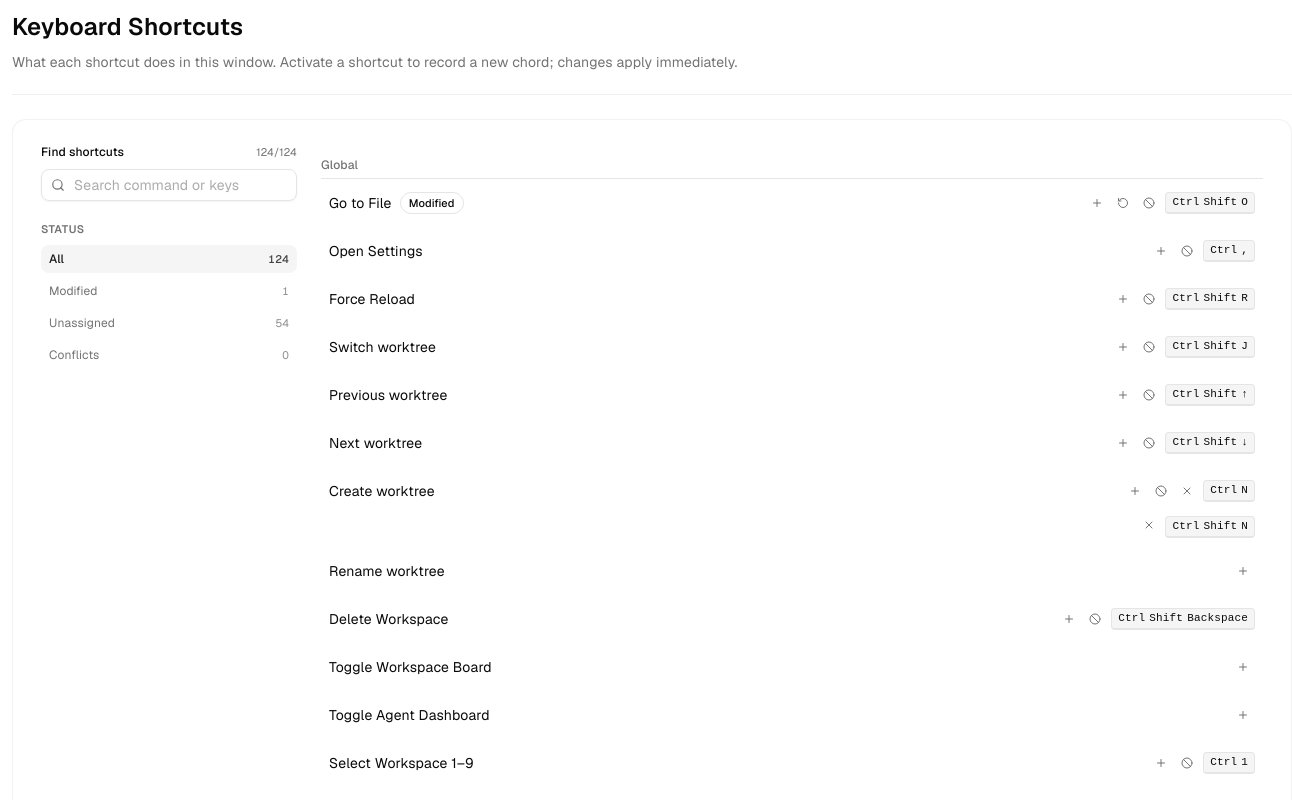
Test: per-row Disable control (#244) › Enable restores the remembered chords in one click
Click the button named "Disable Go to File". click: coordinates (1149, 203)
box: [1137, 191, 1161, 215]
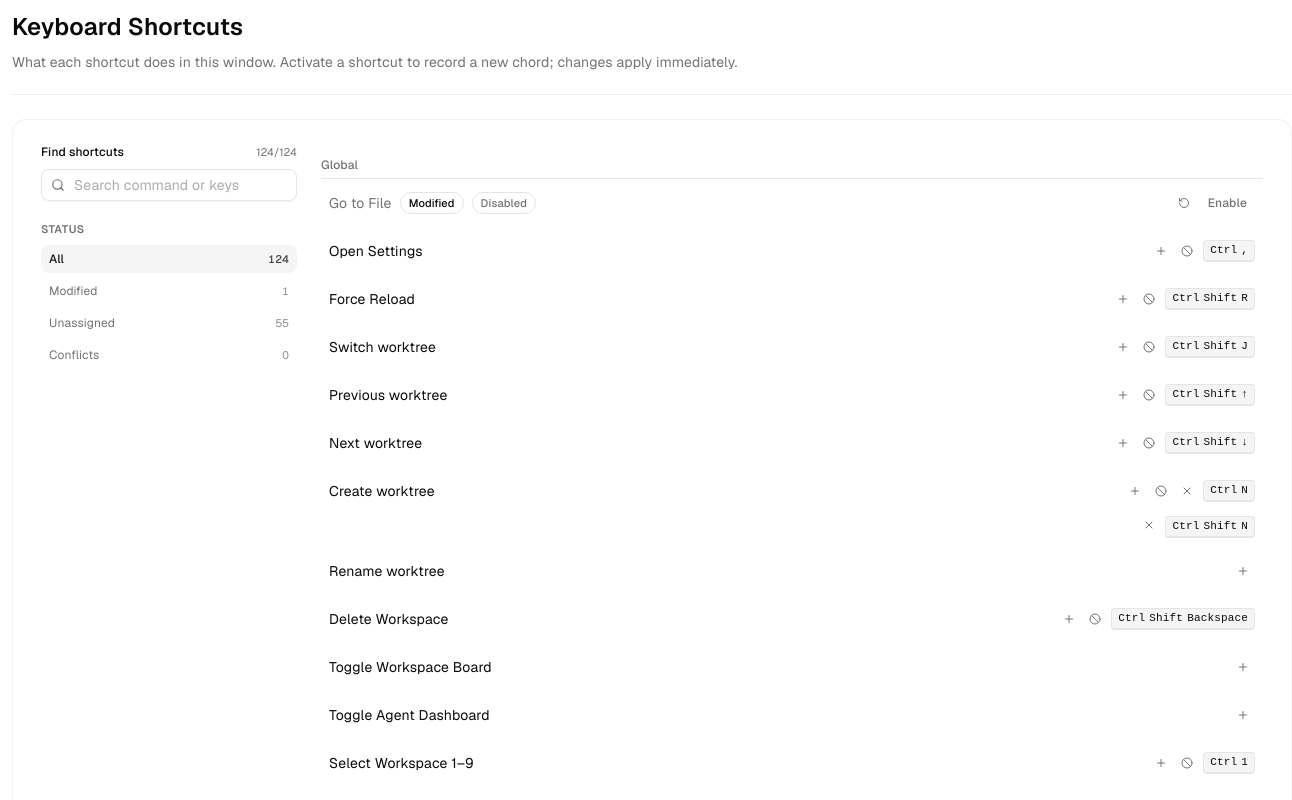
Click the button with aria-label "Enable Go to File". click: coordinates (1227, 203)
box: [1200, 191, 1255, 215]
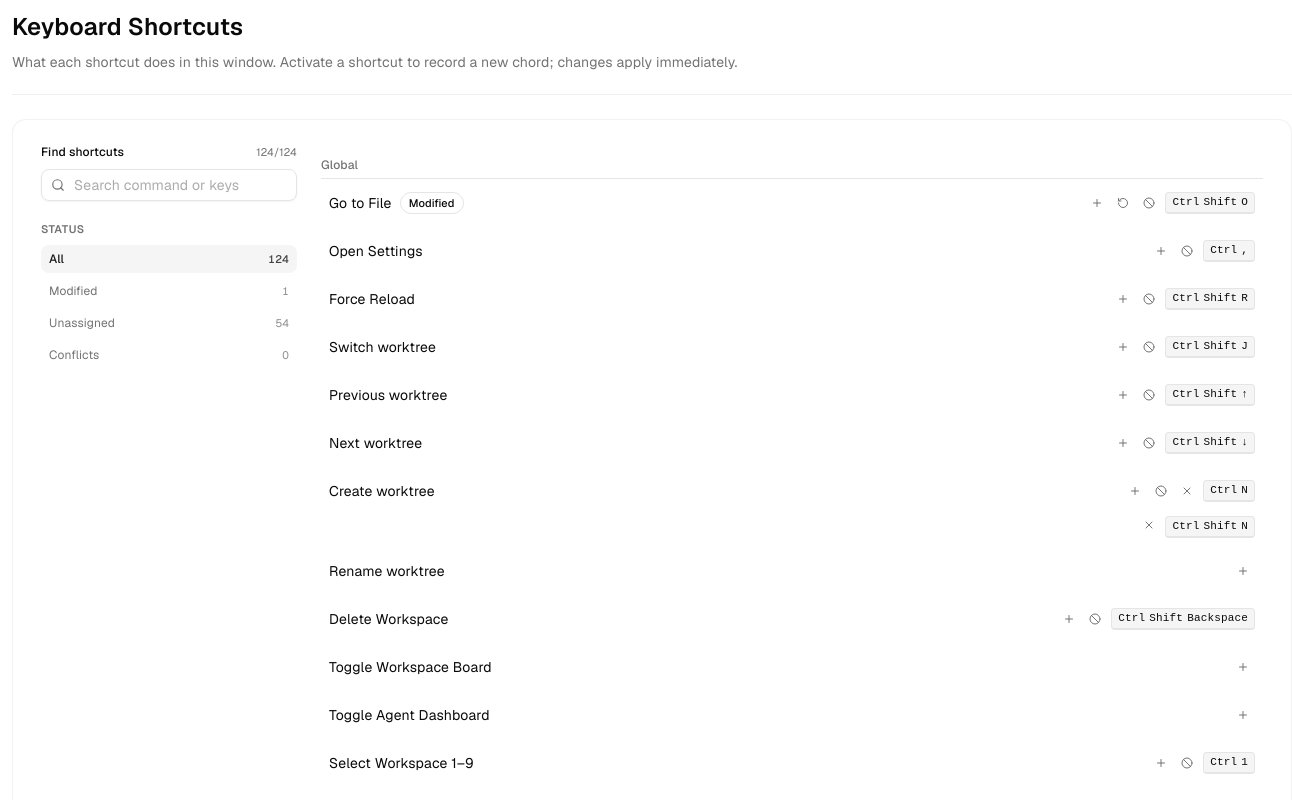
Expected: the button with aria-label "Change shortcut for Go to File, currently Ctrl+Shift+O." is shown, [1165, 192, 1255, 214]
Expected: the text "Disabled" is gone
